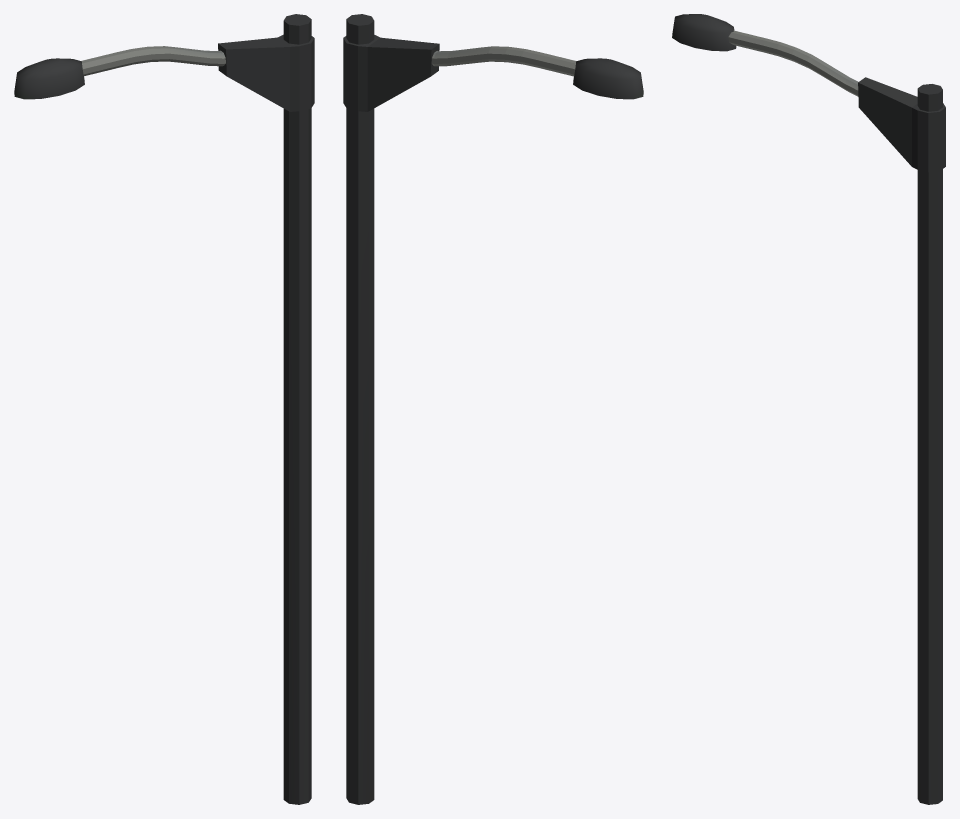
File: LampPost.fbx
3 renders of one model, left to right at view 1: azimuth 30°, elevation 25°; view 2: azimuth 150°, elevation 25°; view 3: azimuth 330°, elevation 25°, orthographic. The views are drawn at different scales.
Visible parts, largest first — view 1: LampPost; view 2: LampPost; view 3: LampPost.
Part boxes in pixels (left/top/right/bottom): LampPost: left=14, top=14, right=314, bottom=804; LampPost: left=343, top=14, right=643, bottom=804; LampPost: left=672, top=14, right=945, bottom=804.
Bounding box in the file's own units: 194 × 498 × 23.08.
Materials: 1 (1 with a texture image).
